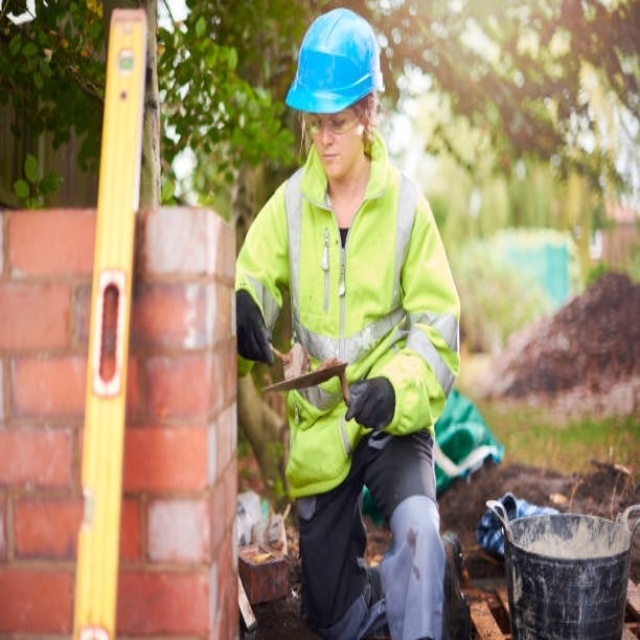Gafas: (303, 105, 366, 129)
Guantes: (236, 289, 274, 366), (344, 376, 396, 432)
Sin_mascara: (315, 146, 341, 174)
